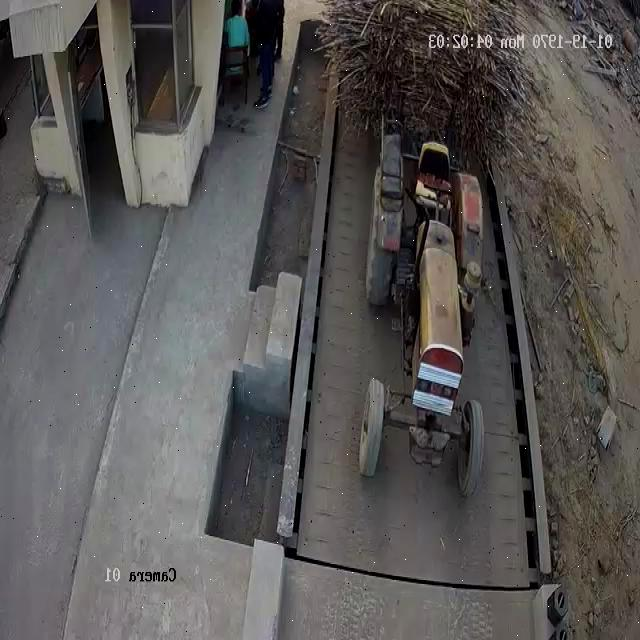Tratores - v5 YOLO V8L 2024-11-13: (355, 140, 489, 500)
